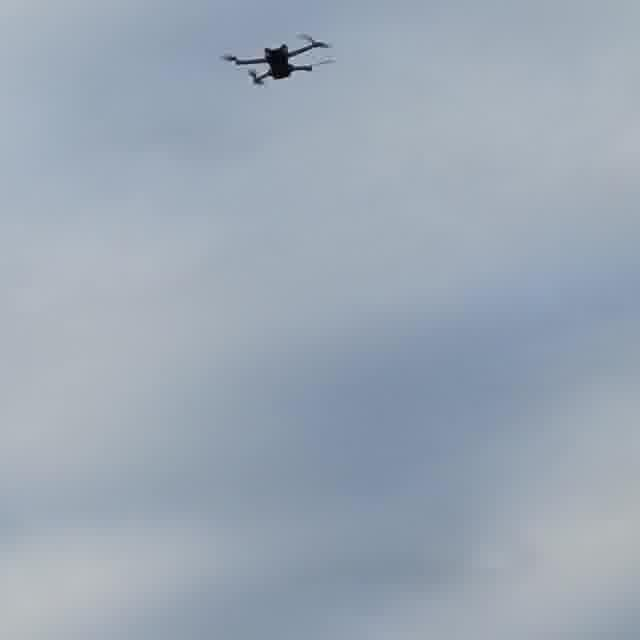Drohne: (223, 34, 333, 85)
